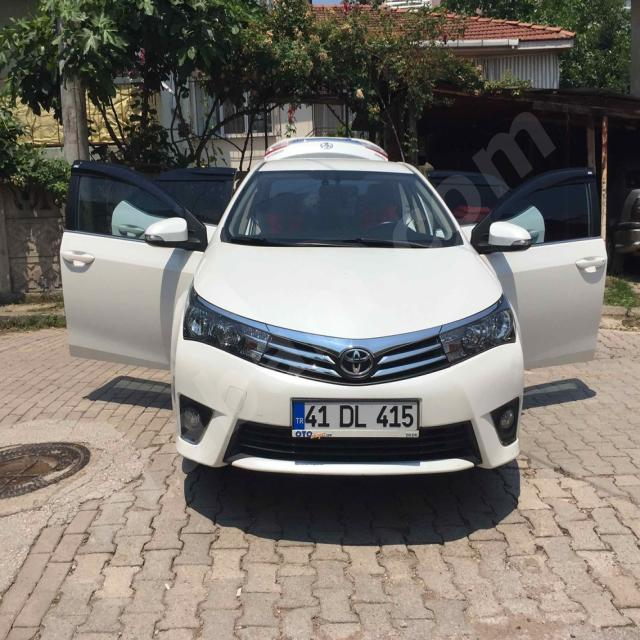license_plate: (292, 400, 418, 430)
